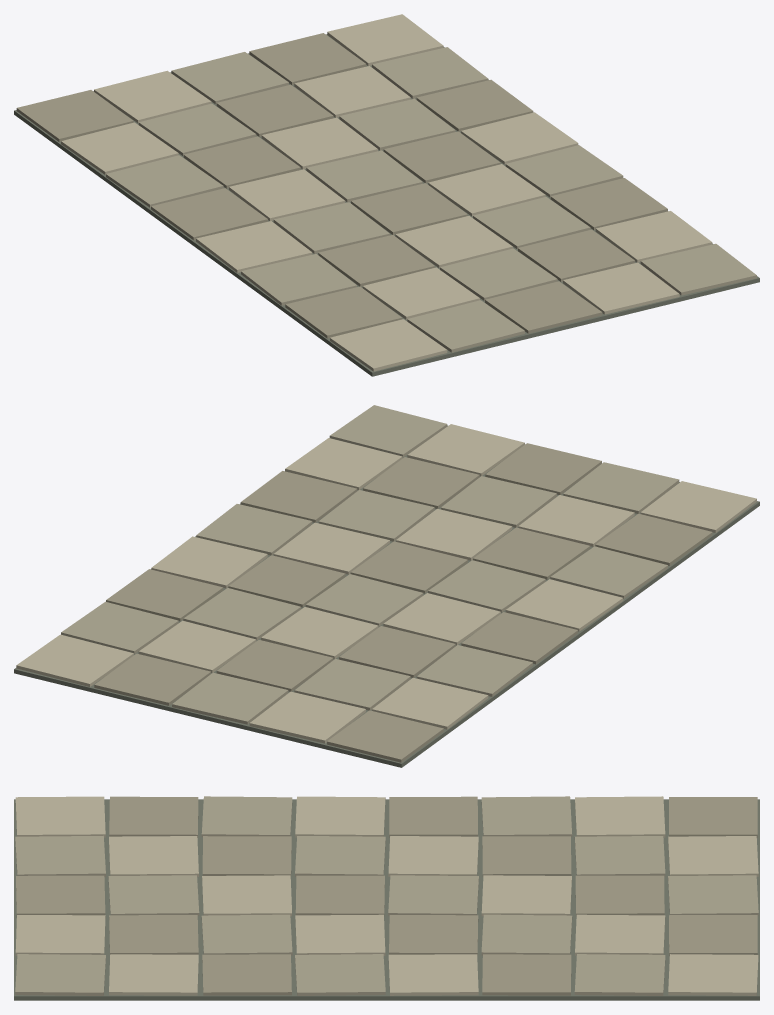
Rendered from LV_DUONG_DA_01.glb.
3 renders of one model, top to bottom at view 1: azimuth 30°, elevation 25°; view 2: azimuth 150°, elevation 25°; view 3: azimuth 270°, elevation 25°, orthographic. The views are drawn at different scales.
Visible parts, largest first — view 1: LV_DUONG_DA_01-surface-c2bba3, LV_DUONG_DA_01-surface-b1ab95, LV_DUONG_DA_01-surface-a8a28c, LV_DUONG_DA_01-surface-797e70; view 2: LV_DUONG_DA_01-surface-c2bba3, LV_DUONG_DA_01-surface-a8a28c, LV_DUONG_DA_01-surface-b1ab95, LV_DUONG_DA_01-surface-797e70; view 3: LV_DUONG_DA_01-surface-c2bba3, LV_DUONG_DA_01-surface-b1ab95, LV_DUONG_DA_01-surface-a8a28c, LV_DUONG_DA_01-surface-797e70.
Boxes of the visible parts, x1,y1,x2,y2 form: LV_DUONG_DA_01-surface-c2bba3: (61,14,712,371); LV_DUONG_DA_01-surface-b1ab95: (106,47,756,352); LV_DUONG_DA_01-surface-a8a28c: (16,33,667,338); LV_DUONG_DA_01-surface-797e70: (14,34,759,376); LV_DUONG_DA_01-surface-c2bba3: (16,424,756,743); LV_DUONG_DA_01-surface-a8a28c: (94,443,712,762); LV_DUONG_DA_01-surface-b1ab95: (61,405,679,724); LV_DUONG_DA_01-surface-797e70: (14,425,759,767); LV_DUONG_DA_01-surface-c2bba3: (15,796,758,995); LV_DUONG_DA_01-surface-b1ab95: (15,796,758,995); LV_DUONG_DA_01-surface-a8a28c: (16,796,757,995); LV_DUONG_DA_01-surface-797e70: (14,799,759,1000).
Bounding box in the file's own units: 2.5 × 0.044 × 4.
